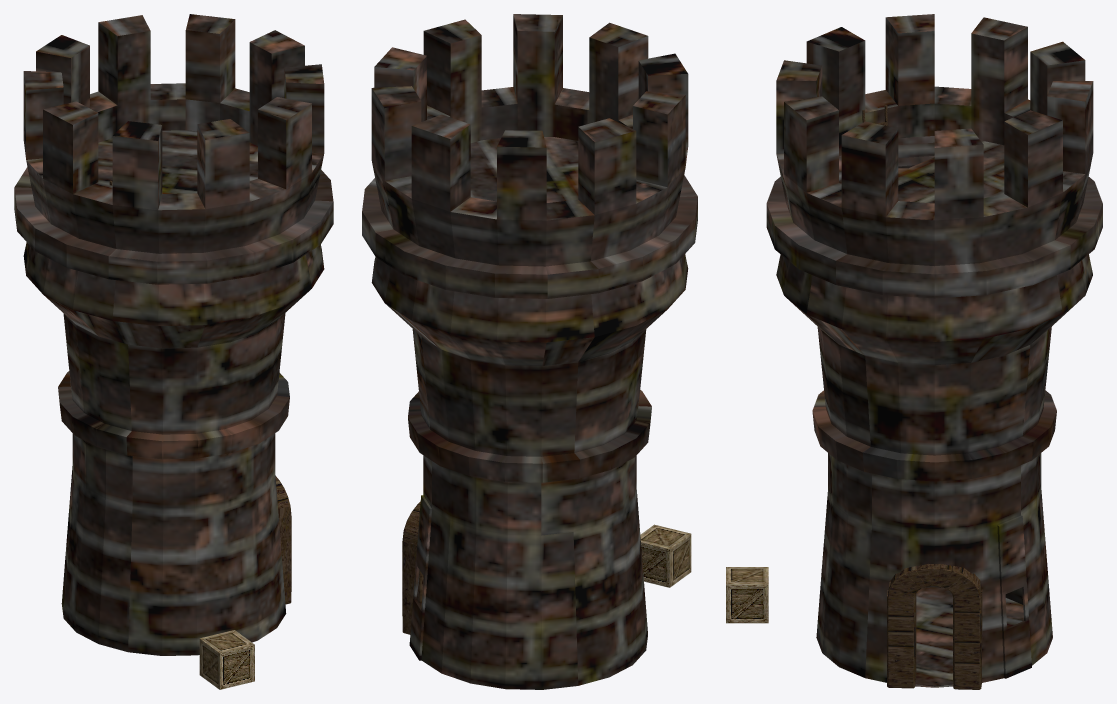
File: TowerUGHHHH.fbx
The picture shows the model from 3 angles, left to right: view 1: azimuth 30°, elevation 25°; view 2: azimuth 150°, elevation 25°; view 3: azimuth 270°, elevation 25°; orthographic projection. The views are drawn at different scales.
Visible parts, largest first — view 1: Cylinder, Crate; view 2: Cylinder, Crate; view 3: Cylinder, Crate.
Boxes of the visible parts, <box> form: Cylinder: <box>14,14,333,655</box>; Crate: <box>199,630,254,689</box>; Cylinder: <box>362,14,697,689</box>; Crate: <box>640,524,691,587</box>; Cylinder: <box>766,14,1102,689</box>; Crate: <box>726,567,768,623</box>.
Size of the model in its own units: 1484 by 2721 by 1663.
Materials: 3 (3 with a texture image).
